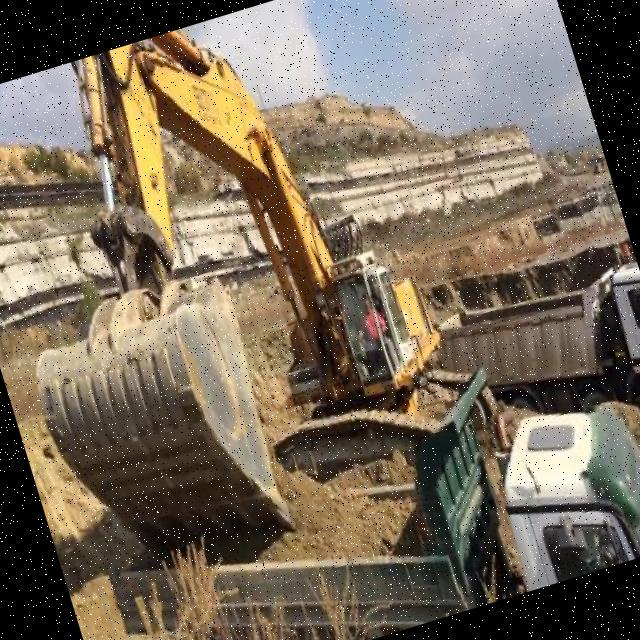Dump Truck: (94, 384, 640, 640), (434, 253, 640, 477)
Excavator: (0, 0, 478, 572)
